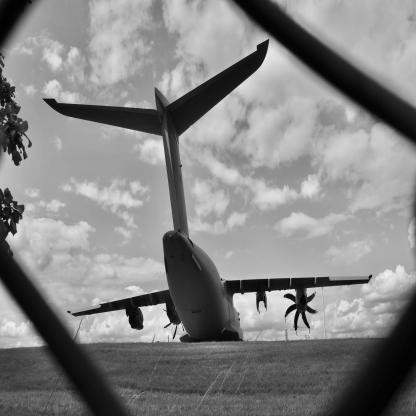A400M: (43, 38, 373, 344)
